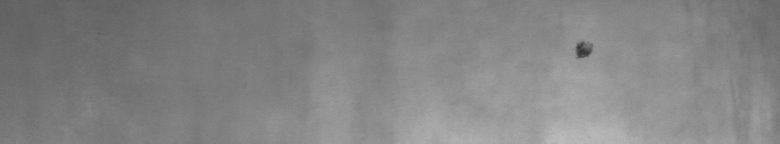fi: (568, 36, 596, 64)
